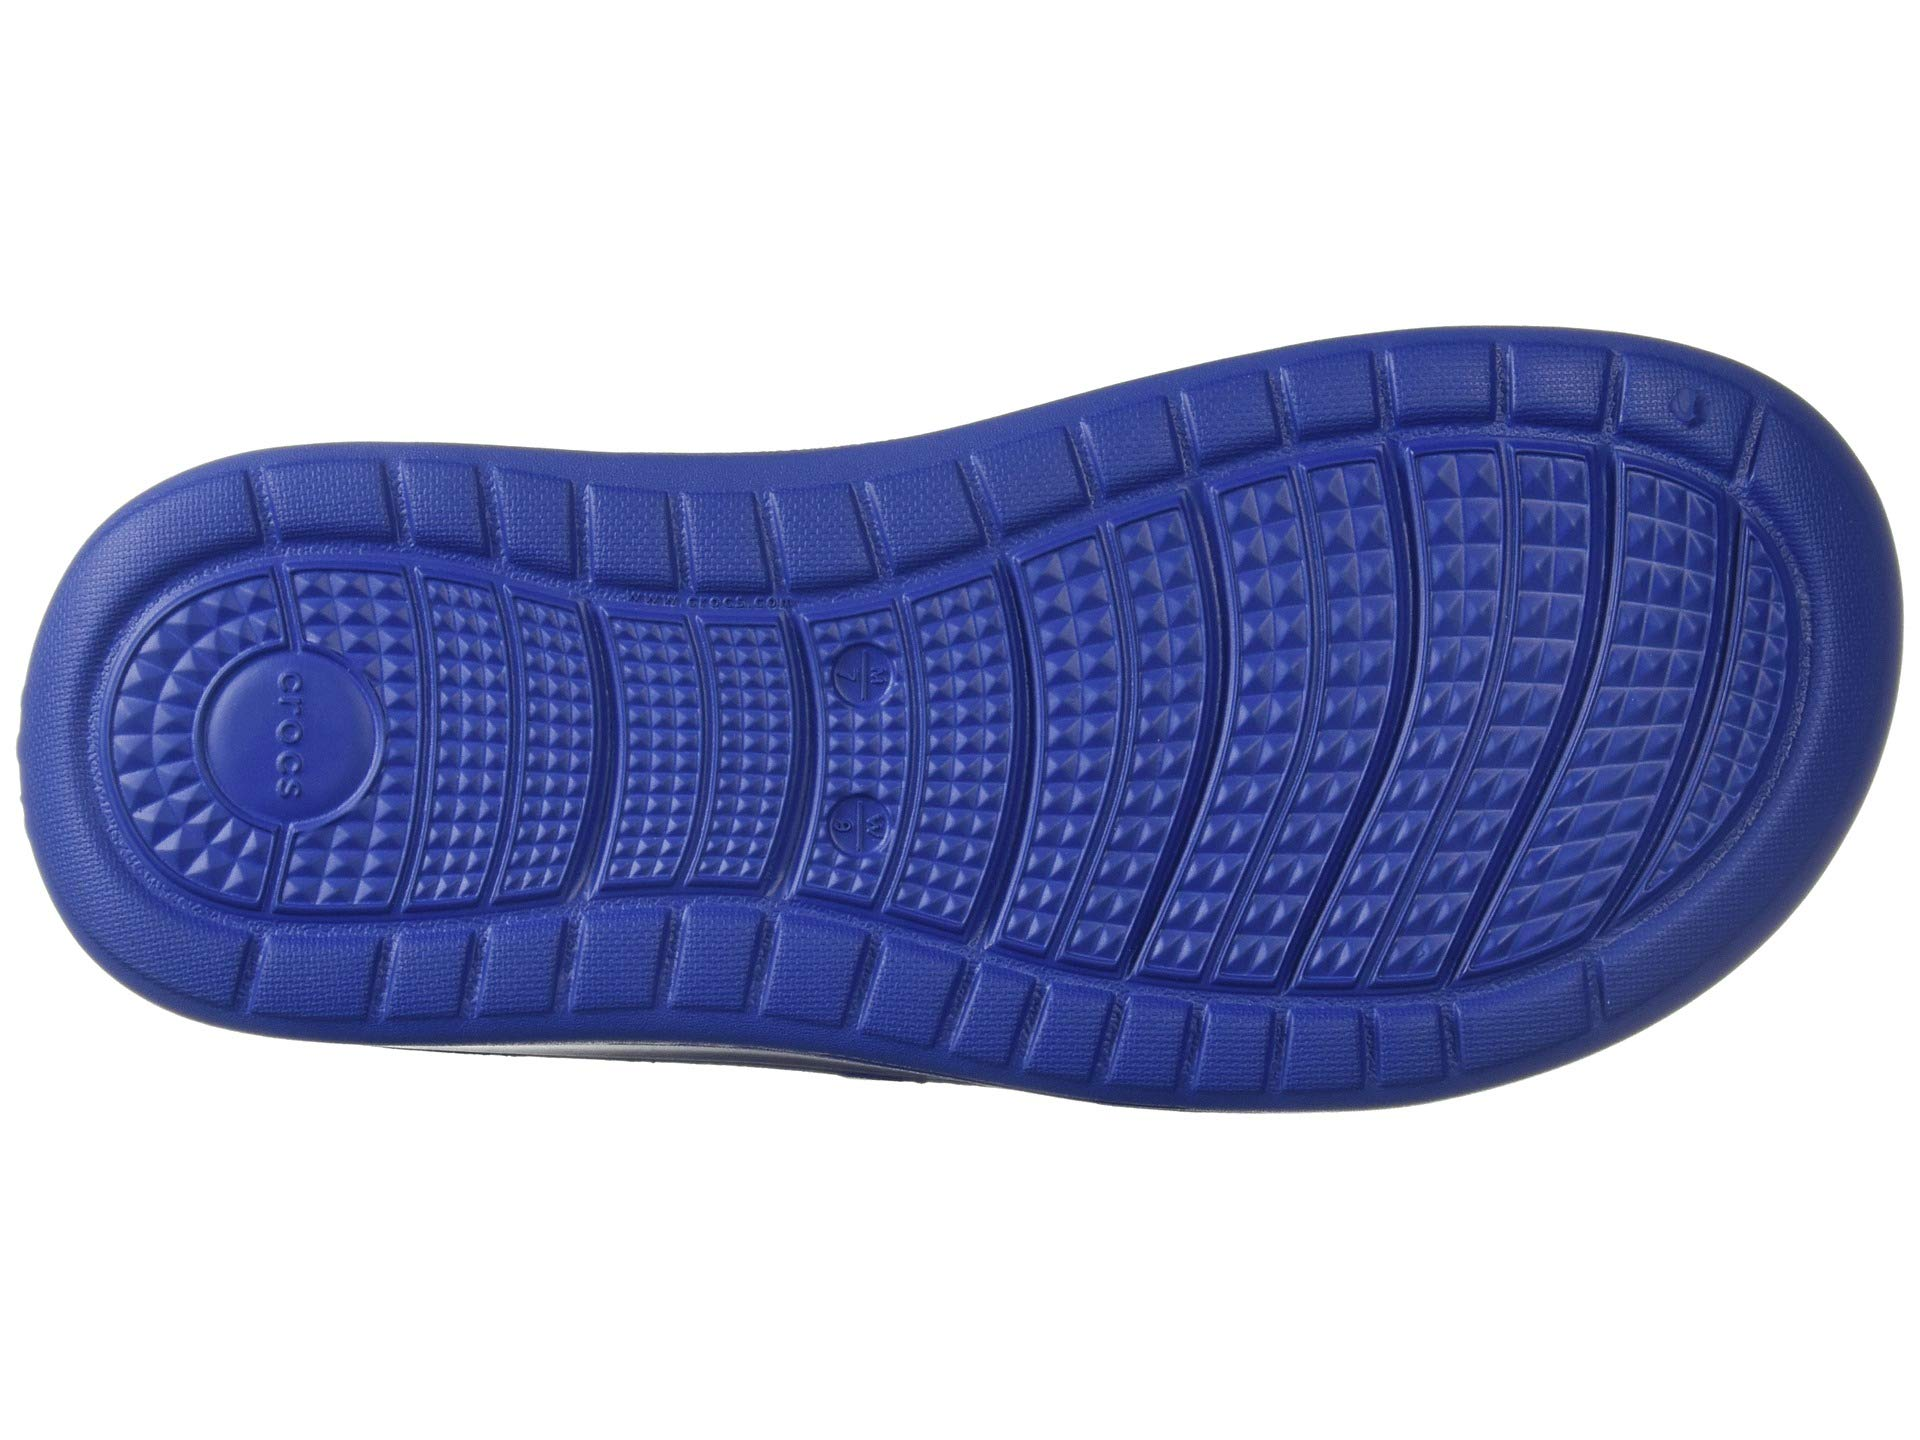circle: (200, 643, 389, 833), (818, 632, 903, 892)
quad: (384, 457, 883, 607), (283, 909, 871, 1032), (983, 961, 1450, 1109), (411, 594, 588, 888), (1411, 473, 1562, 811), (1042, 561, 1157, 944), (1237, 538, 1376, 846), (621, 632, 776, 864), (1293, 339, 1619, 436), (915, 611, 1010, 867), (818, 632, 903, 892), (1613, 501, 1714, 702), (1524, 731, 1642, 902), (1333, 855, 1473, 954), (104, 681, 194, 811)
text: (200, 643, 389, 833)
triangle: (411, 594, 588, 888), (1411, 473, 1562, 811), (1042, 561, 1157, 944), (1237, 538, 1376, 846), (621, 632, 776, 864), (915, 611, 1010, 867), (818, 632, 903, 892), (1613, 501, 1714, 702), (1524, 731, 1642, 902), (1333, 855, 1473, 954), (104, 681, 194, 811)
